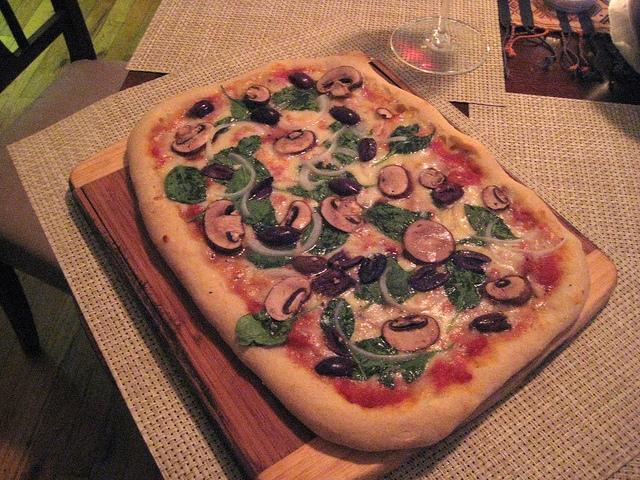mushroom: (401, 219, 456, 266), (202, 198, 245, 256), (380, 314, 440, 352), (264, 275, 312, 322), (320, 195, 364, 234), (482, 275, 532, 307), (316, 66, 363, 100), (170, 123, 215, 156), (378, 165, 412, 199), (274, 129, 317, 155), (278, 200, 312, 230), (482, 185, 510, 210), (420, 168, 445, 189), (245, 84, 271, 104), (376, 107, 394, 120)
onion: (334, 300, 424, 362), (242, 212, 322, 255), (379, 266, 428, 312), (211, 152, 257, 199), (276, 94, 331, 132), (307, 146, 358, 174), (512, 234, 568, 257), (300, 139, 338, 165), (206, 123, 232, 160), (468, 232, 537, 243), (300, 164, 325, 191), (262, 268, 308, 280), (322, 158, 346, 178), (241, 186, 253, 219), (380, 136, 408, 143)
